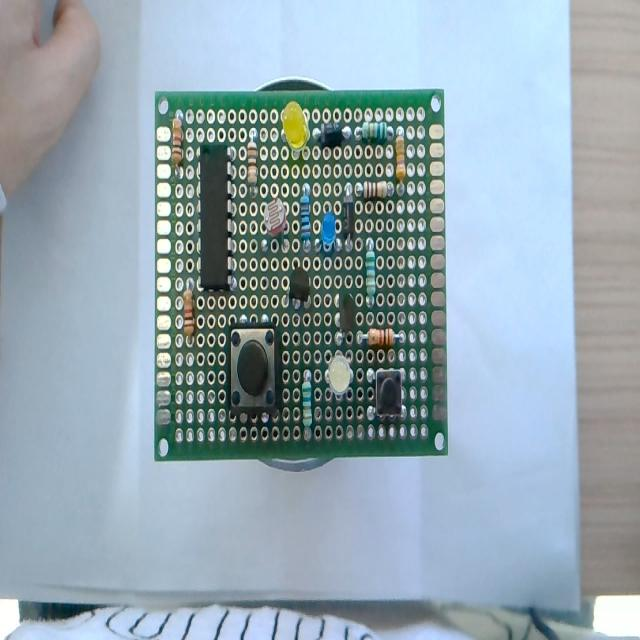IC: (191, 138, 242, 294)
cds: (258, 191, 292, 266)
diode: (341, 176, 358, 248), (313, 120, 349, 148)
led: (320, 339, 360, 408), (278, 98, 314, 158), (313, 210, 341, 256)
resistor: (245, 120, 266, 217), (359, 324, 409, 352), (298, 364, 318, 434), (180, 279, 198, 351), (170, 105, 186, 178), (296, 184, 312, 254), (356, 175, 394, 204), (351, 117, 391, 144), (394, 131, 408, 201), (364, 238, 378, 307)
switch: (224, 317, 282, 418)
transistor: (328, 281, 360, 348), (286, 266, 312, 314)
